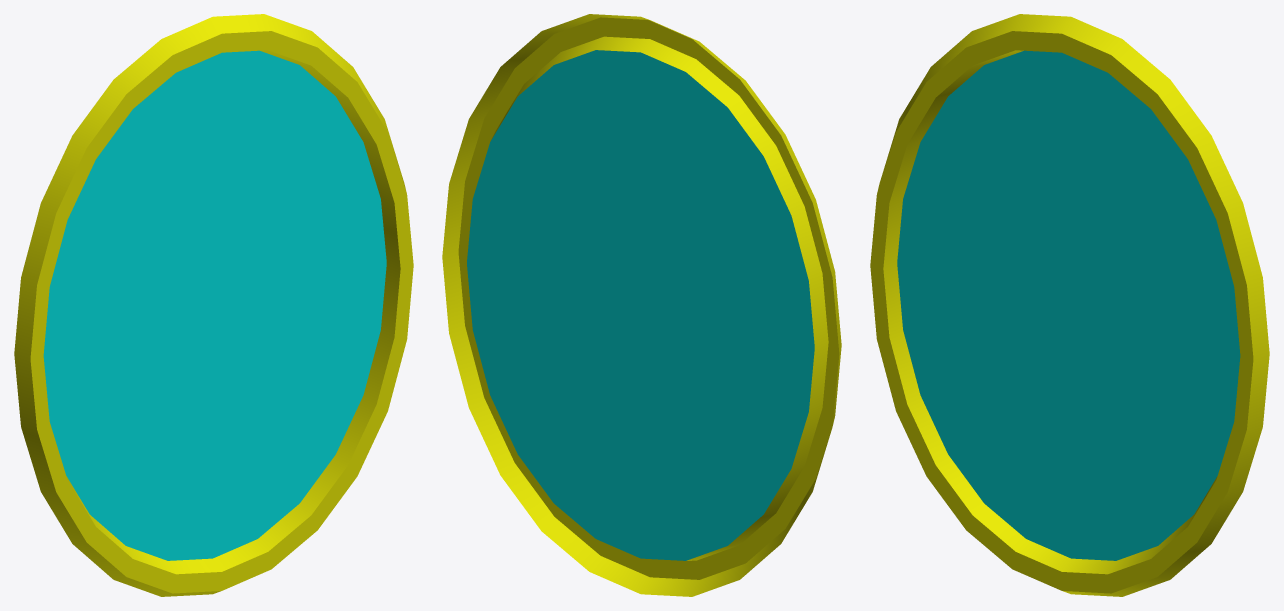
Rendered from Espejo.fbx.
The picture shows the model from 3 angles, left to right: view 1: azimuth 30°, elevation 25°; view 2: azimuth 150°, elevation 25°; view 3: azimuth 330°, elevation 25°; orthographic projection.
Visible parts, largest first — view 1: Espejo; view 2: Espejo; view 3: Espejo.
Part boxes in pixels (x1=…): Espejo: x1=14, y1=14, x2=413, y2=596; Espejo: x1=442, y1=14, x2=841, y2=596; Espejo: x1=870, y1=14, x2=1269, y2=596.
Bounding box in the file's own units: 2.28 × 3.17 × 0.0924.
